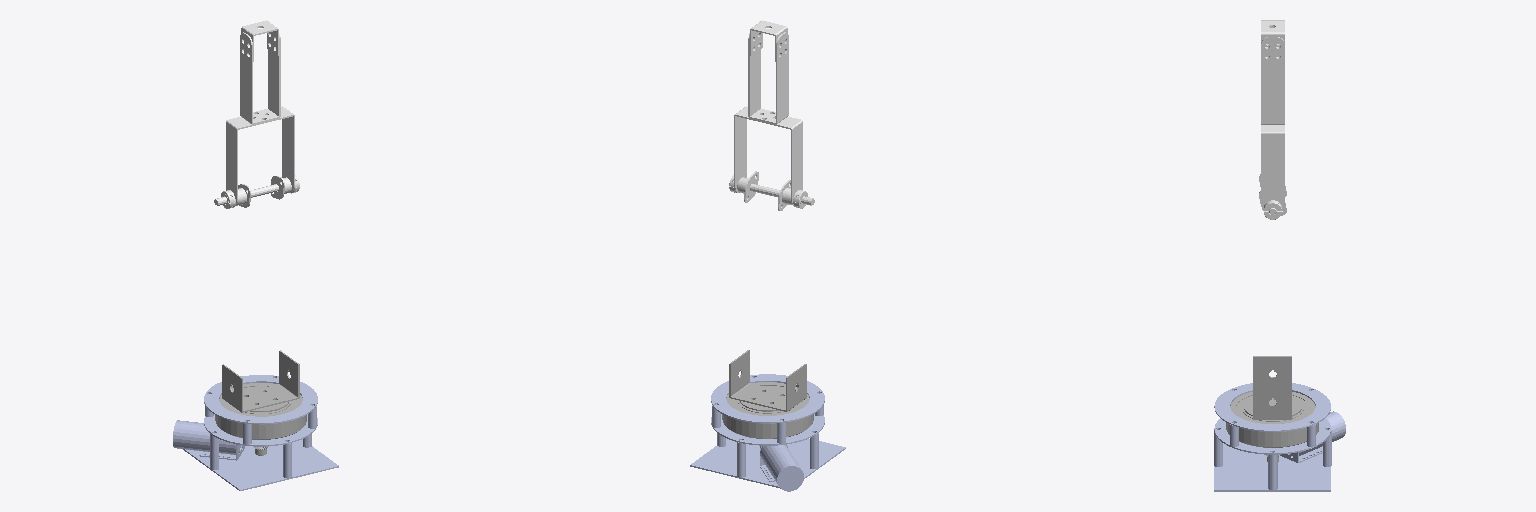
robot.urdf — Arm_Final_Planet:
<?xml version="1.0" encoding="utf-8"?>
<!-- This URDF was automatically created by SolidWorks to URDF Exporter! Originally created by [author] ([email redacted]) 
     Commit Version: 1.6.0-1-g15f4949  Build Version: 1.6.7594.29634
     For more information, please see http://wiki.ros.org/sw_urdf_exporter -->
<robot
  name="Arm_Final_Planet">
  <link
    name="base_link">
    <inertial>
      <origin
        xyz="-0.0236142595030671 0.0236123169398758 0.0271965285802363"
        rpy="0 0 0" />
      <mass
        value="0.207969641151488" />
      <inertia
        ixx="0.000200479509605447"
        ixy="2.57676497106848E-05"
        ixz="-5.56210516012336E-07"
        iyy="0.000200456359940216"
        iyz="5.56176752505245E-07"
        izz="0.000374389478444941" />
    </inertial>
    <visual>
      <origin
        xyz="0 0 0"
        rpy="0 0 0" />
      <geometry>
        <mesh
          filename="package://Arm_Final_Planet/meshes/base_link.STL" />
      </geometry>
      <material
        name="">
        <color
          rgba="0.792156862745098 0.819607843137255 0.933333333333333 1" />
      </material>
    </visual>
    <collision>
      <origin
        xyz="0 0 0"
        rpy="0 0 0" />
      <geometry>
        <mesh
          filename="package://Arm_Final_Planet/meshes/base_link.STL" />
      </geometry>
    </collision>
  </link>
  <link
    name="link_1">
    <inertial>
      <origin
        xyz="-0.000236877819872278 0.000236877675092062 0.0697507249502627"
        rpy="0 0 0" />
      <mass
        value="0.279095221258607" />
      <inertia
        ixx="0.000259960338493914"
        ixy="-4.66608990127581E-09"
        ixz="5.58517858668272E-10"
        iyy="0.000278941883740979"
        iyz="-5.58525895436961E-10"
        izz="0.000494333710451036" />
    </inertial>
    <visual>
      <origin
        xyz="0 0 0"
        rpy="0 0 0" />
      <geometry>
        <mesh
          filename="package://Arm_Final_Planet/meshes/link_1.STL" />
      </geometry>
      <material
        name="">
        <color
          rgba="0.752941176470588 0.752941176470588 0.752941176470588 1" />
      </material>
    </visual>
    <collision>
      <origin
        xyz="0 0 0"
        rpy="0 0 0" />
      <geometry>
        <mesh
          filename="package://Arm_Final_Planet/meshes/link_1.STL" />
      </geometry>
    </collision>
  </link>
  <joint
    name="joint_1"
    type="revolute">
    <origin
      xyz="0 0 0"
      rpy="0 0 0" />
    <parent
      link="base_link" />
    <child
      link="link_1" />
    <axis
      xyz="0 0 1" />
    <limit
      lower="-10"
      upper="10"
      effort="0"
      velocity="0" />
    <dynamics
      damping="1E-06"
      friction="1E-06" />
  </joint>
  <link
    name="link_2">
    <inertial>
      <origin
        xyz="0.123738961750669 -1.91570953544939E-09 0.00247497856528909"
        rpy="0 0 0" />
      <mass
        value="0.281072816715612" />
      <inertia
        ixx="7.94917920285614E-05"
        ixy="-8.14892063096842E-08"
        ixz="8.2683816491101E-10"
        iyy="0.000300028784163318"
        iyz="-1.25470643727528E-12"
        izz="0.000270604773050529" />
    </inertial>
    <visual>
      <origin
        xyz="0 0 0"
        rpy="0 0 0" />
      <geometry>
        <mesh
          filename="package://Arm_Final_Planet/meshes/link_2.STL" />
      </geometry>
      <material
        name="">
        <color
          rgba="0.956862745098039 0.956862745098039 0.956862745098039 1" />
      </material>
    </visual>
    <collision>
      <origin
        xyz="0 0 0"
        rpy="0 0 0" />
      <geometry>
        <mesh
          filename="package://Arm_Final_Planet/meshes/link_2.STL" />
      </geometry>
    </collision>
  </link>
  <joint
    name="joint_2"
    type="revolute">
    <origin
      xyz="-0.0007379 0.0002379 0.111"
      rpy="3.1416 -1.5708 0" />
    <parent
      link="link_1" />
    <child
      link="link_2" />
    <axis
      xyz="0 0 1" />
    <limit
      lower="-10"
      upper="10"
      effort="0"
      velocity="0" />
    <dynamics
      damping="1E-06"
      friction="1E-06" />
  </joint>
  <link
    name="link_3">
    <inertial>
      <origin
        xyz="0.0777132274431743 -7.60367363517034E-09 -0.00134160773584074"
        rpy="0 0 0" />
      <mass
        value="0.0670506734760102" />
      <inertia
        ixx="5.0747255741549E-05"
        ixy="-1.037104349205E-07"
        ixz="1.10572456045354E-10"
        iyy="9.73378729019276E-05"
        iyz="1.26012193654106E-12"
        izz="5.45282291768862E-05" />
    </inertial>
    <visual>
      <origin
        xyz="0 0 0"
        rpy="0 0 0" />
      <geometry>
        <mesh
          filename="package://Arm_Final_Planet/meshes/link_3.STL" />
      </geometry>
      <material
        name="">
        <color
          rgba="0.956862745098039 0.956862745098039 0.956862745098039 1" />
      </material>
    </visual>
    <collision>
      <origin
        xyz="0 0 0"
        rpy="0 0 0" />
      <geometry>
        <mesh
          filename="package://Arm_Final_Planet/meshes/link_3.STL" />
      </geometry>
    </collision>
  </link>
  <joint
    name="joint_3"
    type="revolute">
    <origin
      xyz="0.275 0 0"
      rpy="0 0 0" />
    <parent
      link="link_2" />
    <child
      link="link_3" />
    <axis
      xyz="0 0 1" />
    <limit
      lower="-10"
      upper="10"
      effort="0"
      velocity="0" />
    <dynamics
      damping="1E-05"
      friction="1E-05" />
  </joint>
</robot>

--- Facts derived from the render (not from the file) ---
The picture shows the robot from 3 angles, left to right: view 1: azimuth 30°, elevation 25°; view 2: azimuth 150°, elevation 25°; view 3: azimuth 270°, elevation 25°; orthographic projection.
Robot: Arm_Final_Planet — 4 links, 3 joints (3 revolute); root link base_link; default pose: all joints at 0.
Visible links, largest first — view 1: base_link, link_3, link_1; view 2: base_link, link_3, link_1; view 3: base_link, link_3, link_1.
Link boxes in pixels (x1,y1,x2,y2): base_link: (173, 375, 338, 490); link_3: (214, 20, 299, 208); link_1: (215, 350, 306, 455); base_link: (690, 374, 845, 491); link_3: (729, 20, 814, 210); link_1: (722, 350, 813, 438); base_link: (1214, 383, 1345, 491); link_3: (1259, 20, 1286, 219); link_1: (1226, 356, 1318, 461).
Size in the robot's own frame: 0.1702 by 0.1702 by 0.6235 metres.
Meshes: 4 distinct files referenced, 3 mesh visuals loaded (3 binary STL); not drawn: 1 (reference not matched to a file when rendering).